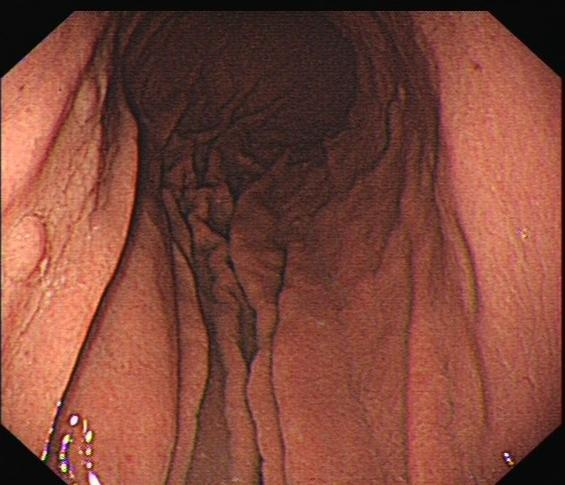Polyp: (4, 209, 59, 283)
